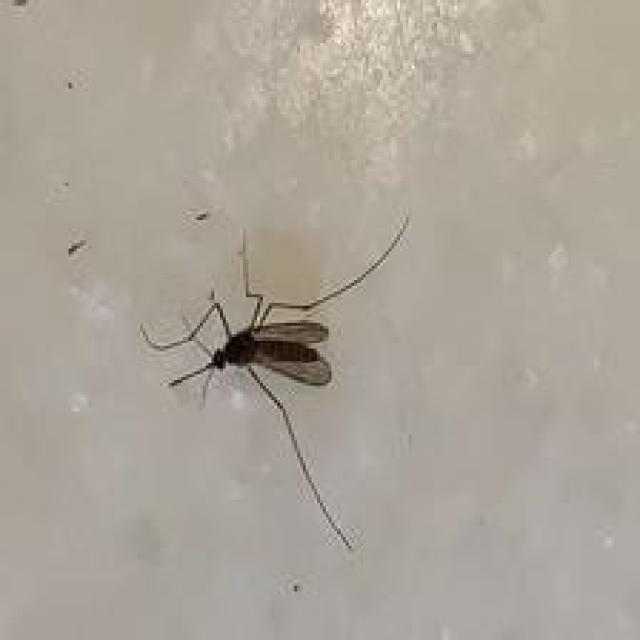Culex: (139, 212, 410, 552)
